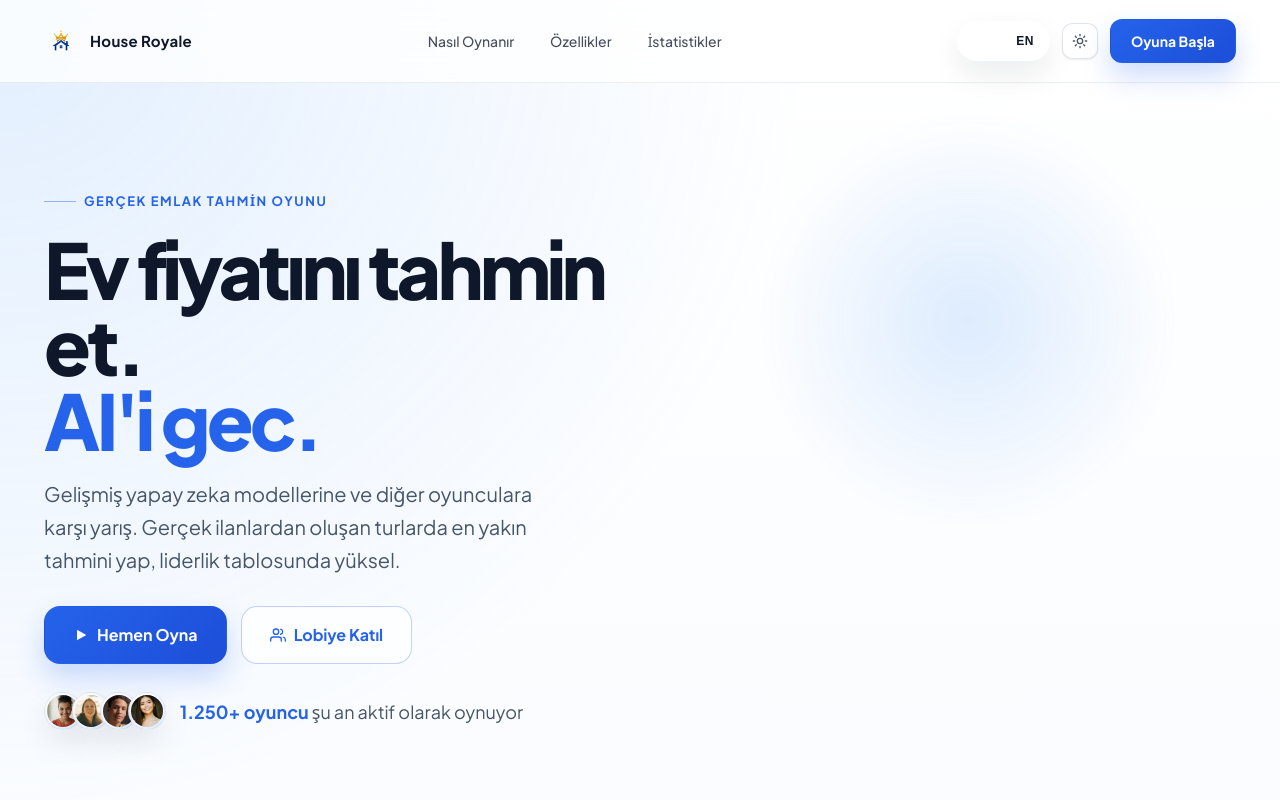
LocaleProvider › persists manual locale switching from the landing navigation
The image size is (1280, 800).
Expected: the button "Hemen Oyna" is shown, [44,606,227,664]
What coordinates should you click on to do the following:
click the button with aria-label "Switch to English"
I would click on:
 (1025, 41)
Its box is [1006,27,1044,55].
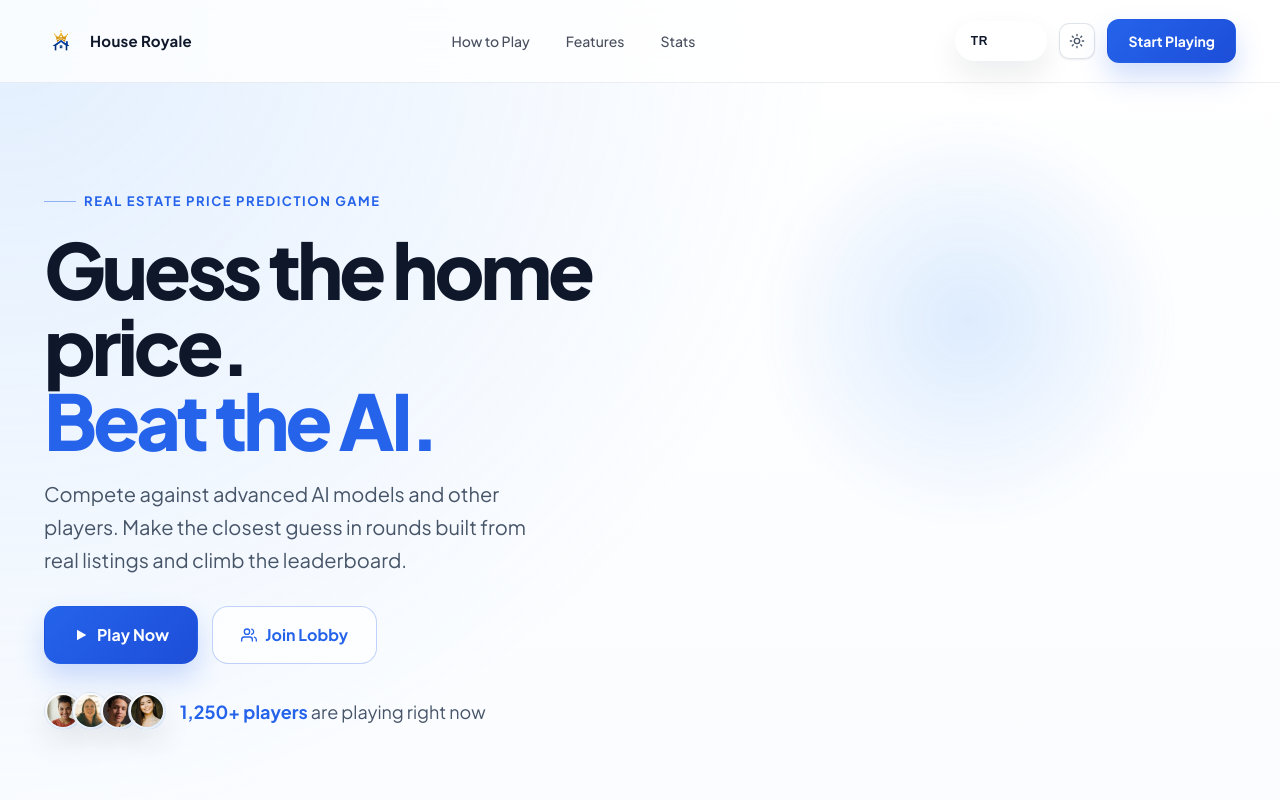
Expected: the button "Play Now" is shown, [44,606,198,664]
What coordinates should you click on to do the following:
click the button with aria-label "Türkçeye geç"
I would click on:
 (979, 41)
Its box is [961,27,998,55].
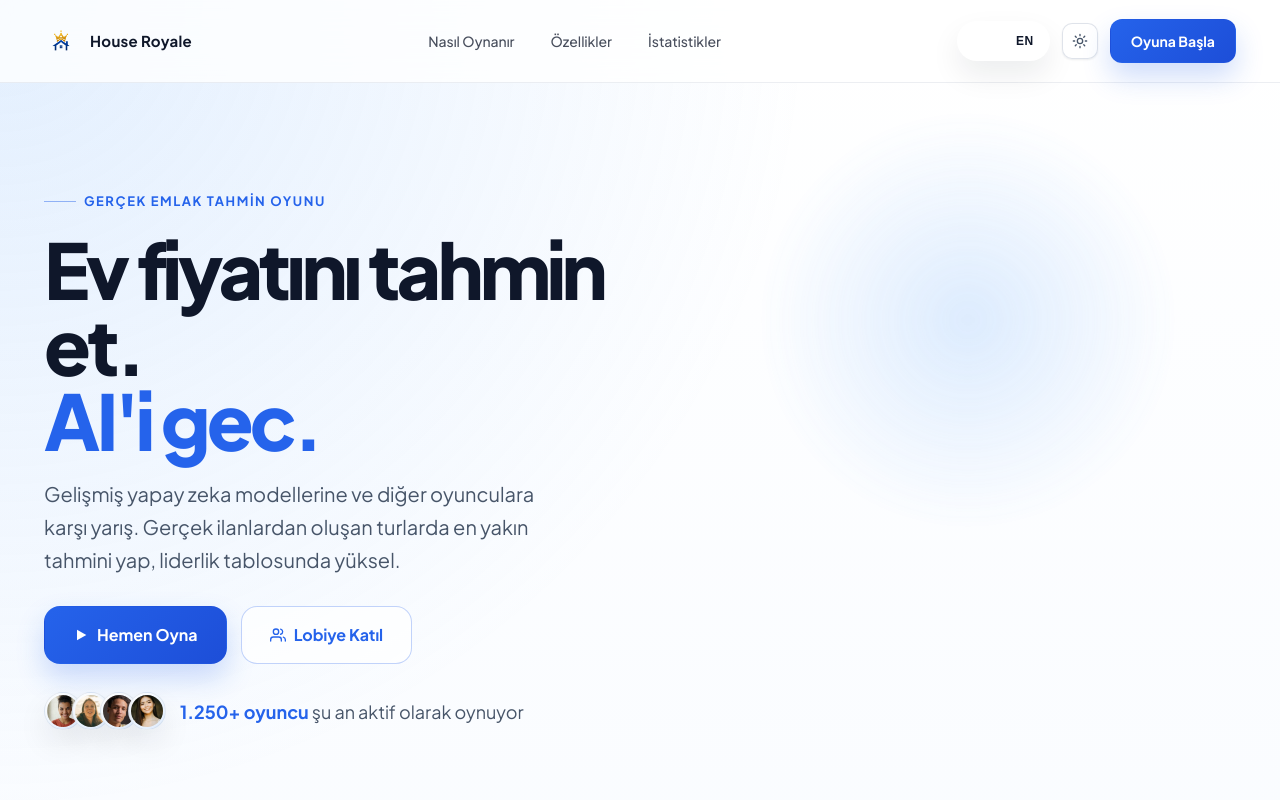
Expected: the button "Hemen Oyna" is shown, [44,606,227,664]
